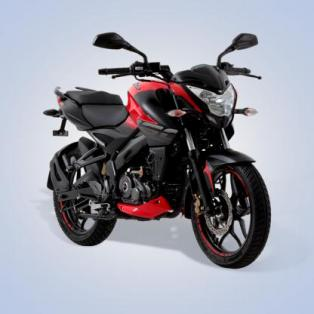Motocicleta: (42, 30, 276, 272)
